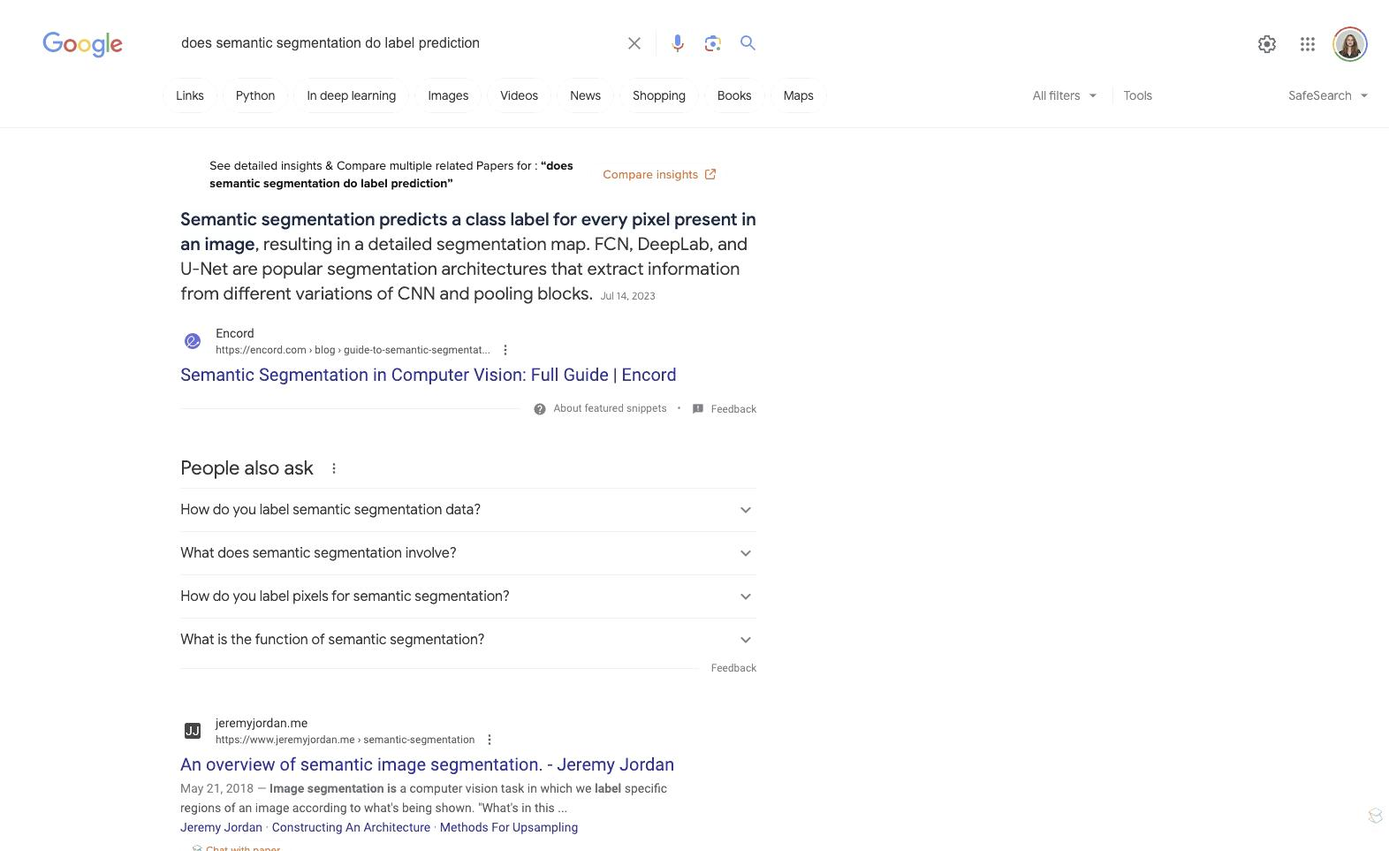webelement: (179, 207, 755, 851), (0, 77, 1388, 127), (179, 208, 755, 304), (162, 77, 1011, 112), (179, 531, 755, 574), (179, 574, 755, 617), (179, 488, 755, 530), (179, 618, 755, 660), (179, 780, 666, 814), (179, 498, 734, 520), (179, 628, 734, 650), (179, 542, 734, 563), (179, 585, 734, 606), (180, 33, 612, 55), (179, 369, 675, 383), (179, 759, 673, 772), (179, 587, 509, 604), (179, 630, 483, 648), (179, 500, 480, 518), (179, 543, 456, 561), (215, 323, 490, 341), (215, 713, 474, 731), (1277, 77, 1378, 119), (215, 731, 474, 747), (292, 77, 408, 112), (9, 50, 106, 89), (9, 75, 106, 114), (179, 455, 312, 480), (1021, 77, 1109, 112), (619, 77, 698, 112), (414, 77, 481, 112), (222, 77, 287, 112), (486, 77, 550, 112), (271, 819, 430, 833), (306, 343, 490, 355), (703, 77, 764, 112), (556, 77, 613, 112), (770, 77, 826, 112), (439, 819, 578, 833), (553, 399, 666, 416), (162, 77, 216, 112), (612, 23, 655, 62), (1115, 77, 1160, 112), (733, 23, 772, 62), (354, 733, 474, 745), (306, 87, 395, 103), (694, 23, 730, 62), (659, 23, 694, 62), (1287, 87, 1372, 103), (1249, 26, 1284, 61), (1289, 26, 1324, 61), (1332, 26, 1367, 61), (179, 819, 262, 833), (179, 780, 253, 794), (632, 87, 685, 103), (599, 288, 654, 302), (313, 458, 353, 475), (710, 401, 756, 415), (710, 660, 756, 674), (427, 87, 467, 103), (497, 339, 532, 357), (482, 729, 517, 747), (235, 87, 274, 103), (499, 87, 537, 103), (717, 87, 751, 103), (569, 87, 600, 103), (783, 87, 813, 103), (175, 87, 203, 103)
